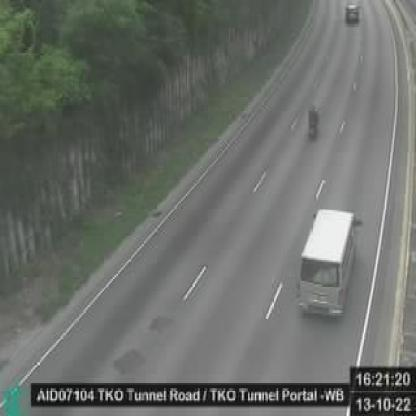Car: (296, 207, 362, 316), (345, 2, 360, 25)
